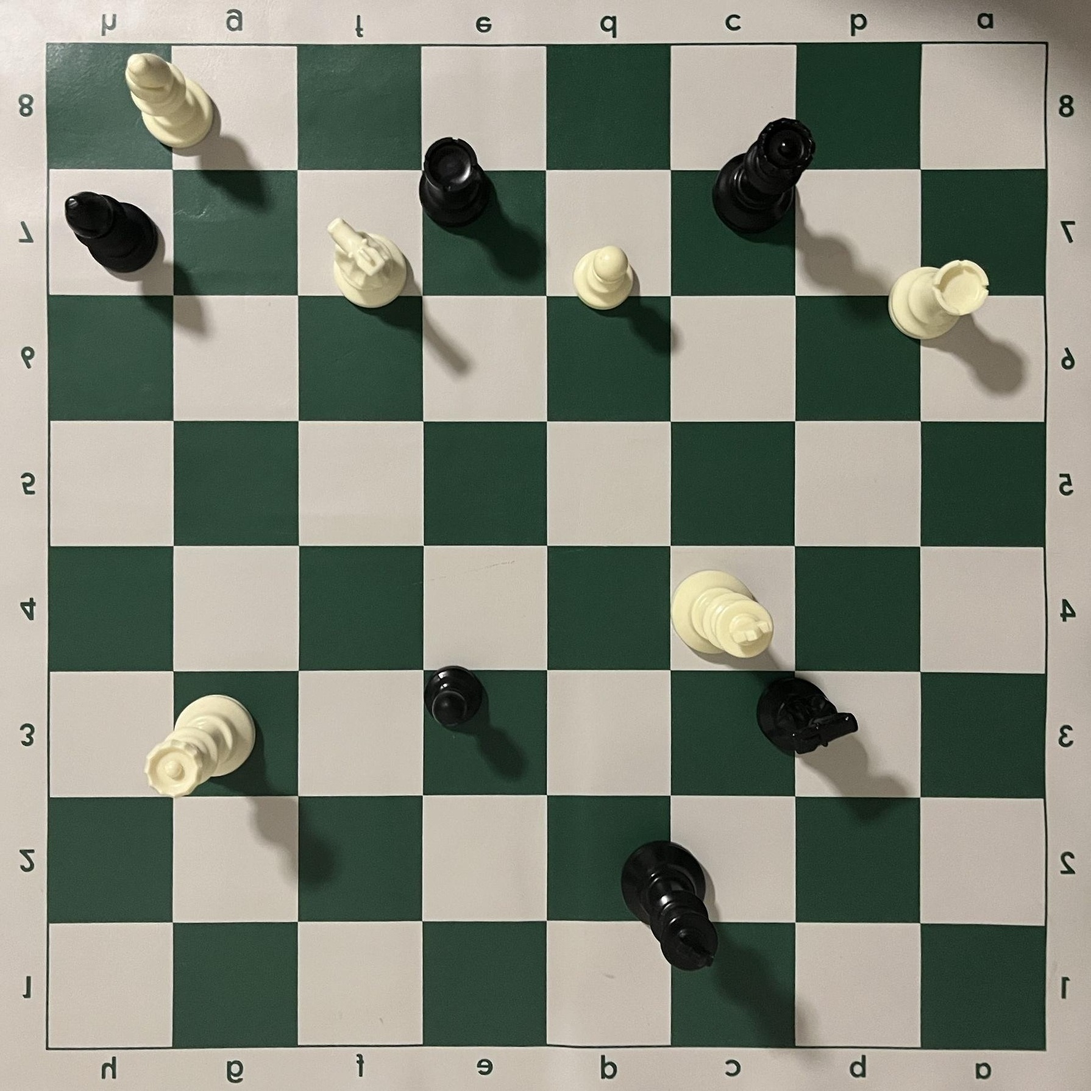black_bishop: (65, 191, 160, 274)
black_king: (620, 840, 719, 972)
black_knight: (757, 675, 859, 756)
black_pawn: (422, 666, 485, 732)
black_queen: (711, 118, 817, 236)
black_rook: (419, 137, 487, 228)
white_bishop: (124, 52, 215, 149)
white_king: (671, 570, 774, 658)
white_knight: (327, 216, 409, 308)
white_pawn: (572, 244, 635, 311)
white_queen: (144, 695, 256, 797)
white_rook: (887, 258, 990, 341)
